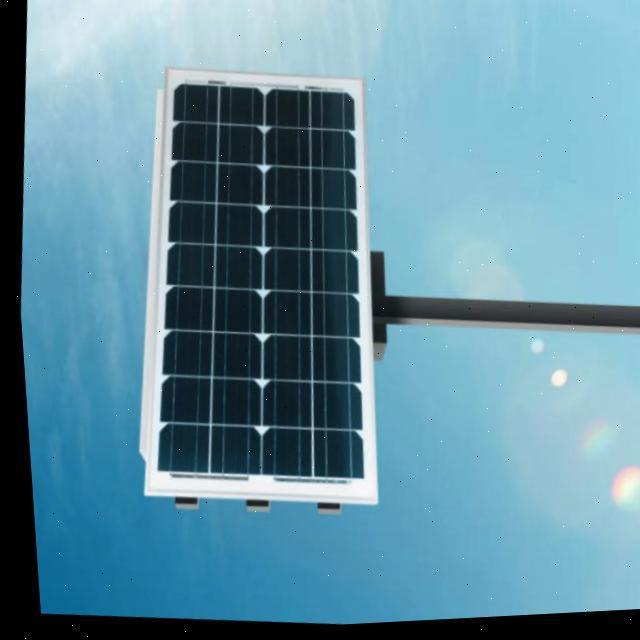Normal Solar Panel: (120, 63, 402, 506)
